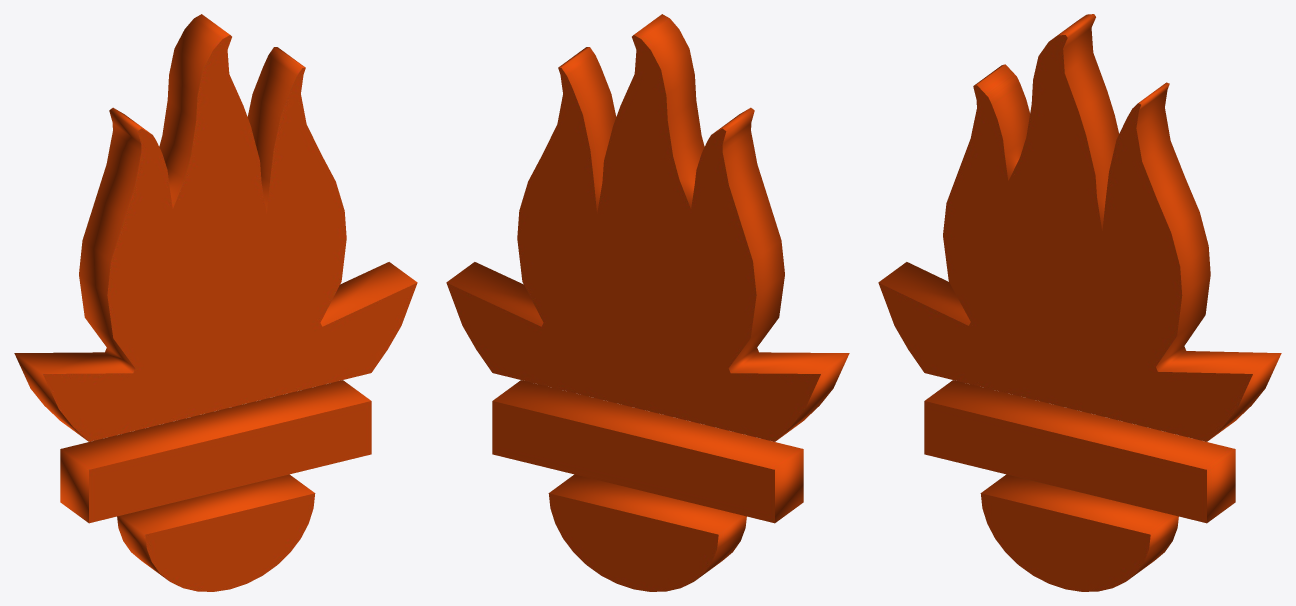
The model's file is prometheus.gltf.
The picture shows the model from 3 angles, left to right: view 1: azimuth 30°, elevation 25°; view 2: azimuth 150°, elevation 25°; view 3: azimuth 330°, elevation 25°; orthographic projection.
Parts seen in each view (by area): view 1: Circle; view 2: Circle; view 3: Circle.
Part boxes in pixels (x1=…): Circle: x1=14, y1=14, x2=417, y2=591; Circle: x1=446, y1=14, x2=849, y2=591; Circle: x1=878, y1=14, x2=1281, y2=591.
Bounding box in the file's own units: 20.48 × 28.94 × 2.7.
1 material, 1 textured.
